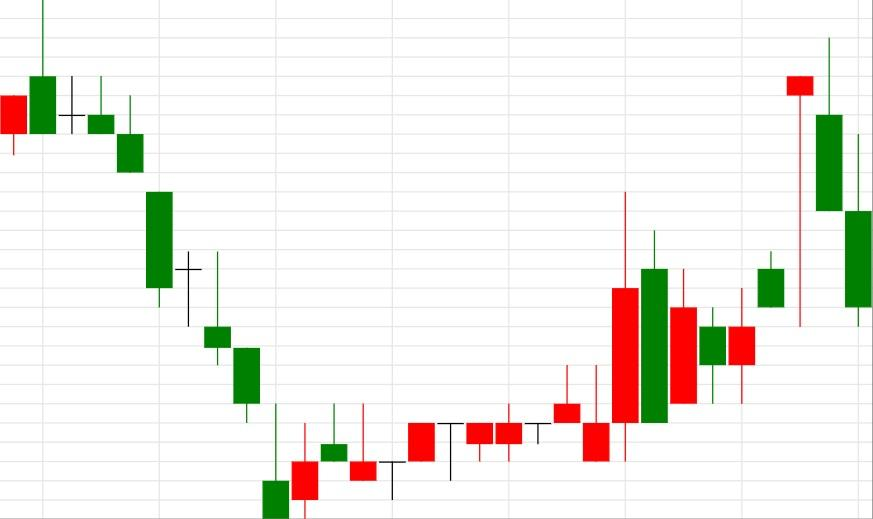hanging_man_fall: (582, 76, 815, 461)
inverse_hammer_rise: (28, 0, 290, 519)
